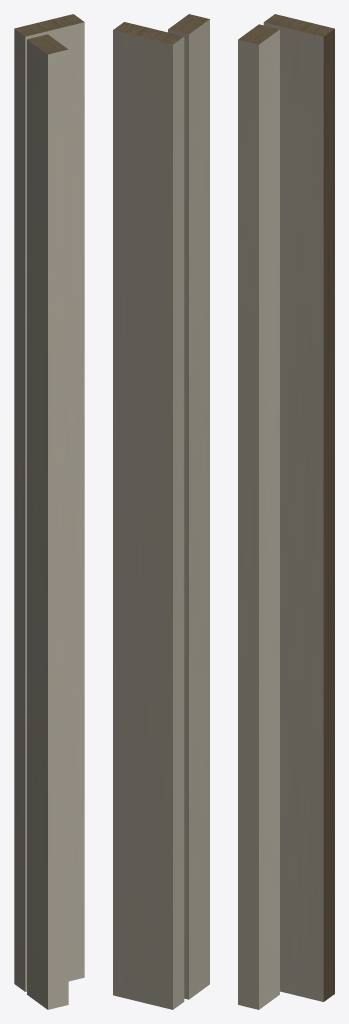
The model's file is house_03_corner_trim.glb.
3 views of the same model, side by side, from view 1: azimuth 30°, elevation 25°; view 2: azimuth 150°, elevation 25°; view 3: azimuth 330°, elevation 25° (orthographic).
Parts seen in each view (by area): view 1: outdoor_house_03_corner_trim; view 2: outdoor_house_03_corner_trim; view 3: outdoor_house_03_corner_trim.
Boxes of the visible parts, x1,y1,x2,y2 form: outdoor_house_03_corner_trim: [14, 14, 84, 1009]; outdoor_house_03_corner_trim: [113, 14, 209, 1009]; outdoor_house_03_corner_trim: [238, 14, 334, 1009].
Bounding box in the file's own units: 0.18 × 2.7 × 0.18.
Materials: 1 (1 with a texture image).
